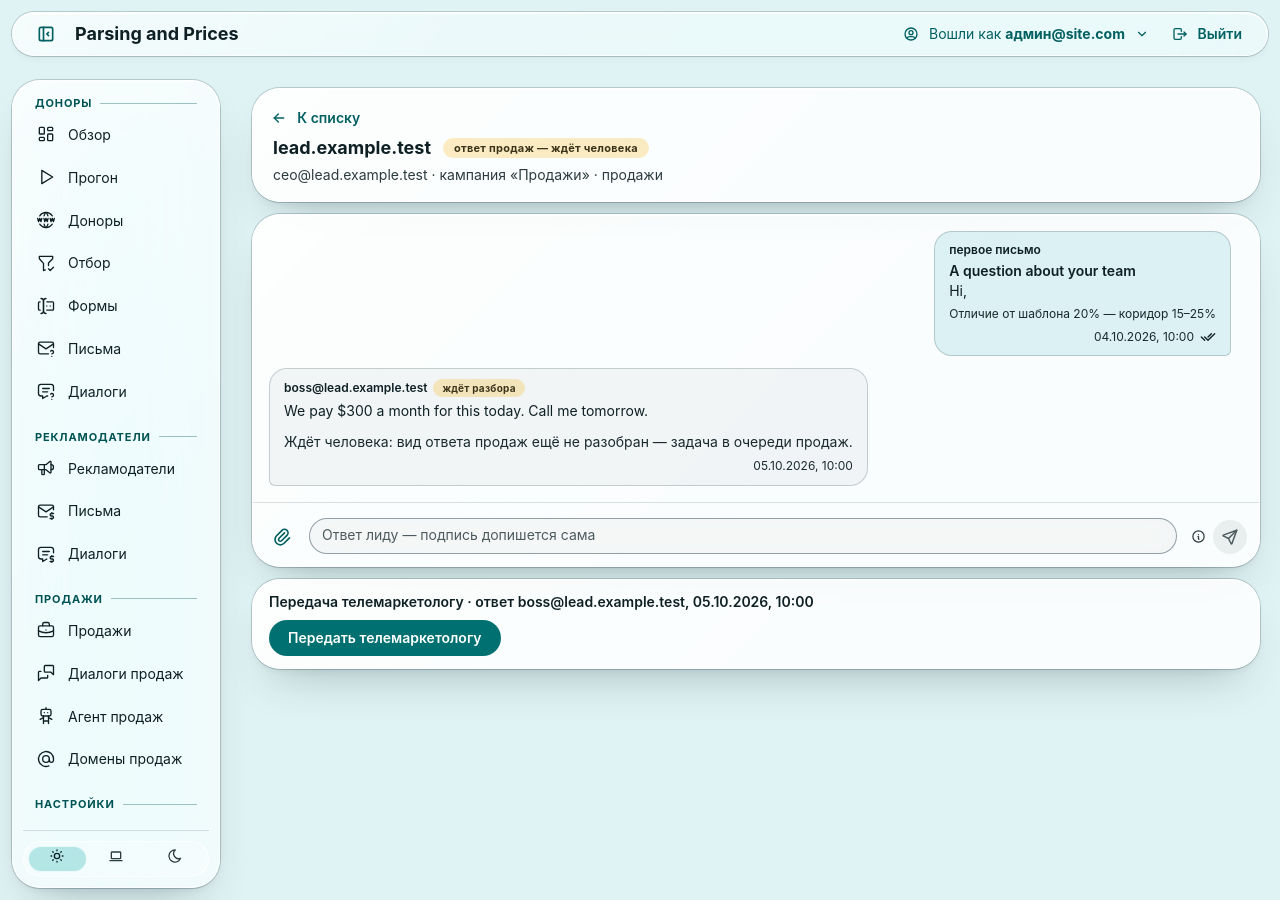
переписка продаж › лиду отвечают своими словами — подпись и адрес допишет сервер
expect the heading "lead.example.test" is shown: met, box [273,135,431,161]
In the text box named "Текст ответа": (743,536) [309,518,1177,554], type "Sure, tomorrow at 10 works."
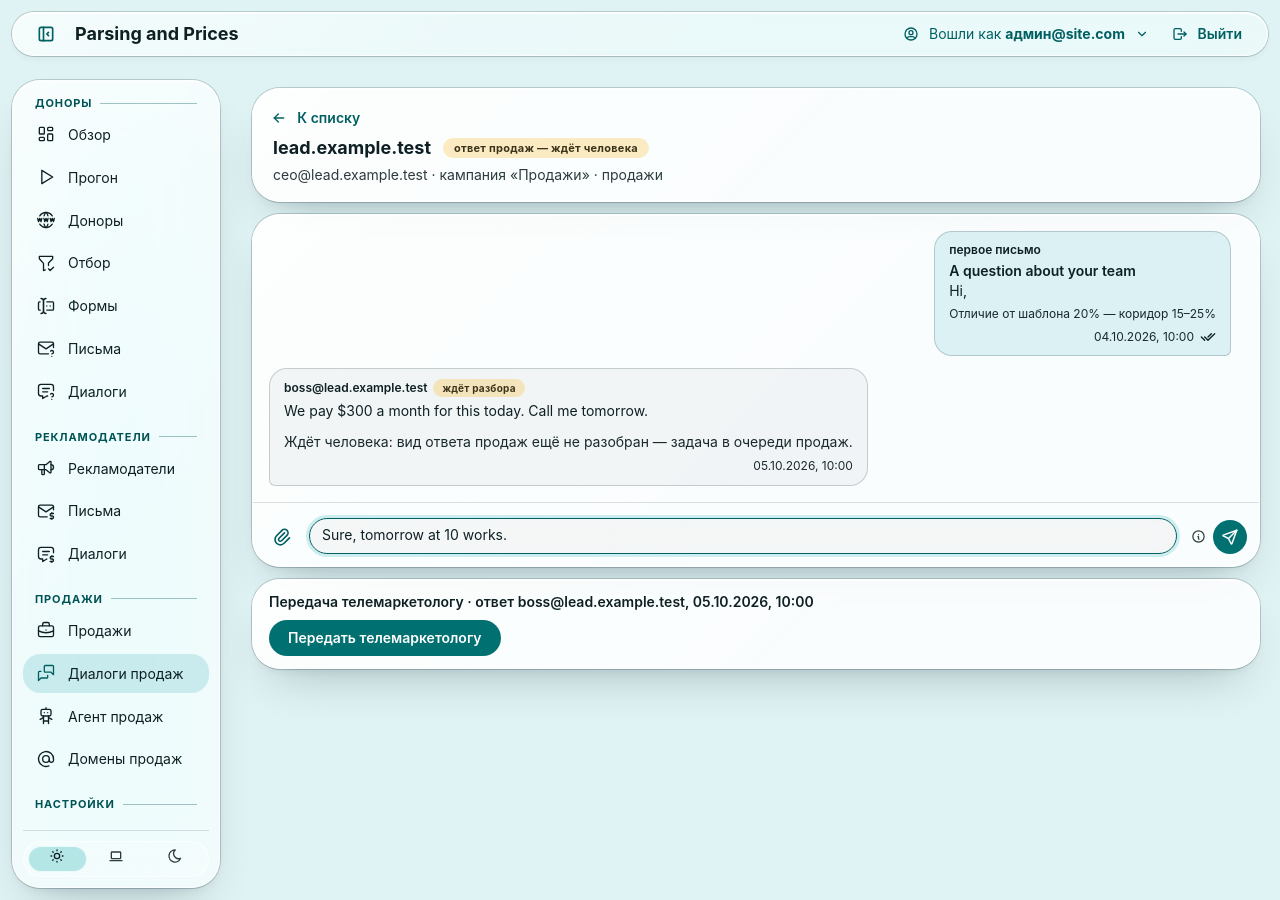
Click the button named "Отправить": (1230,537) [1213,520,1247,554]
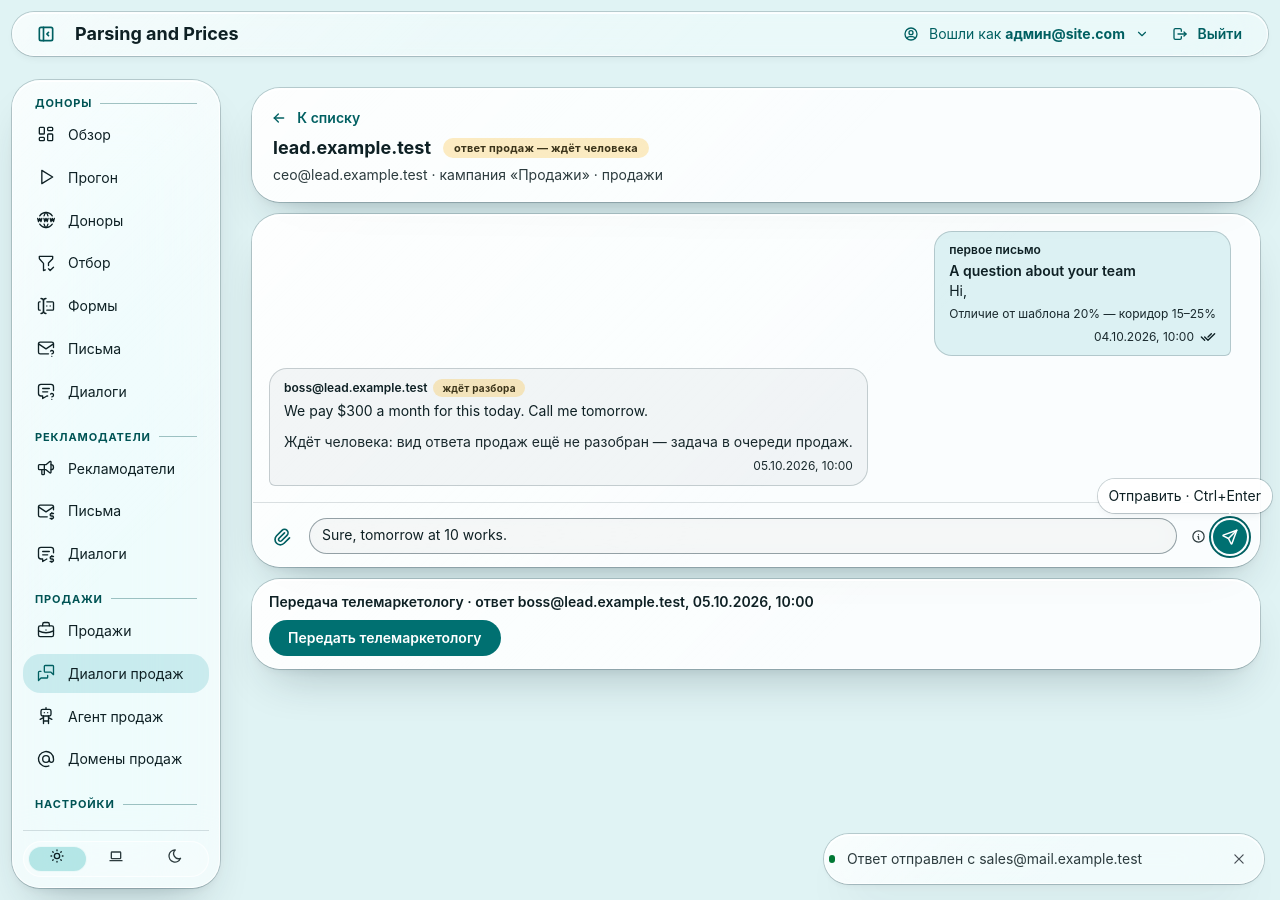
expect the text "Ответ отправлен с sales@mail.example.test" is shown: met, box [847,850,1142,867]
